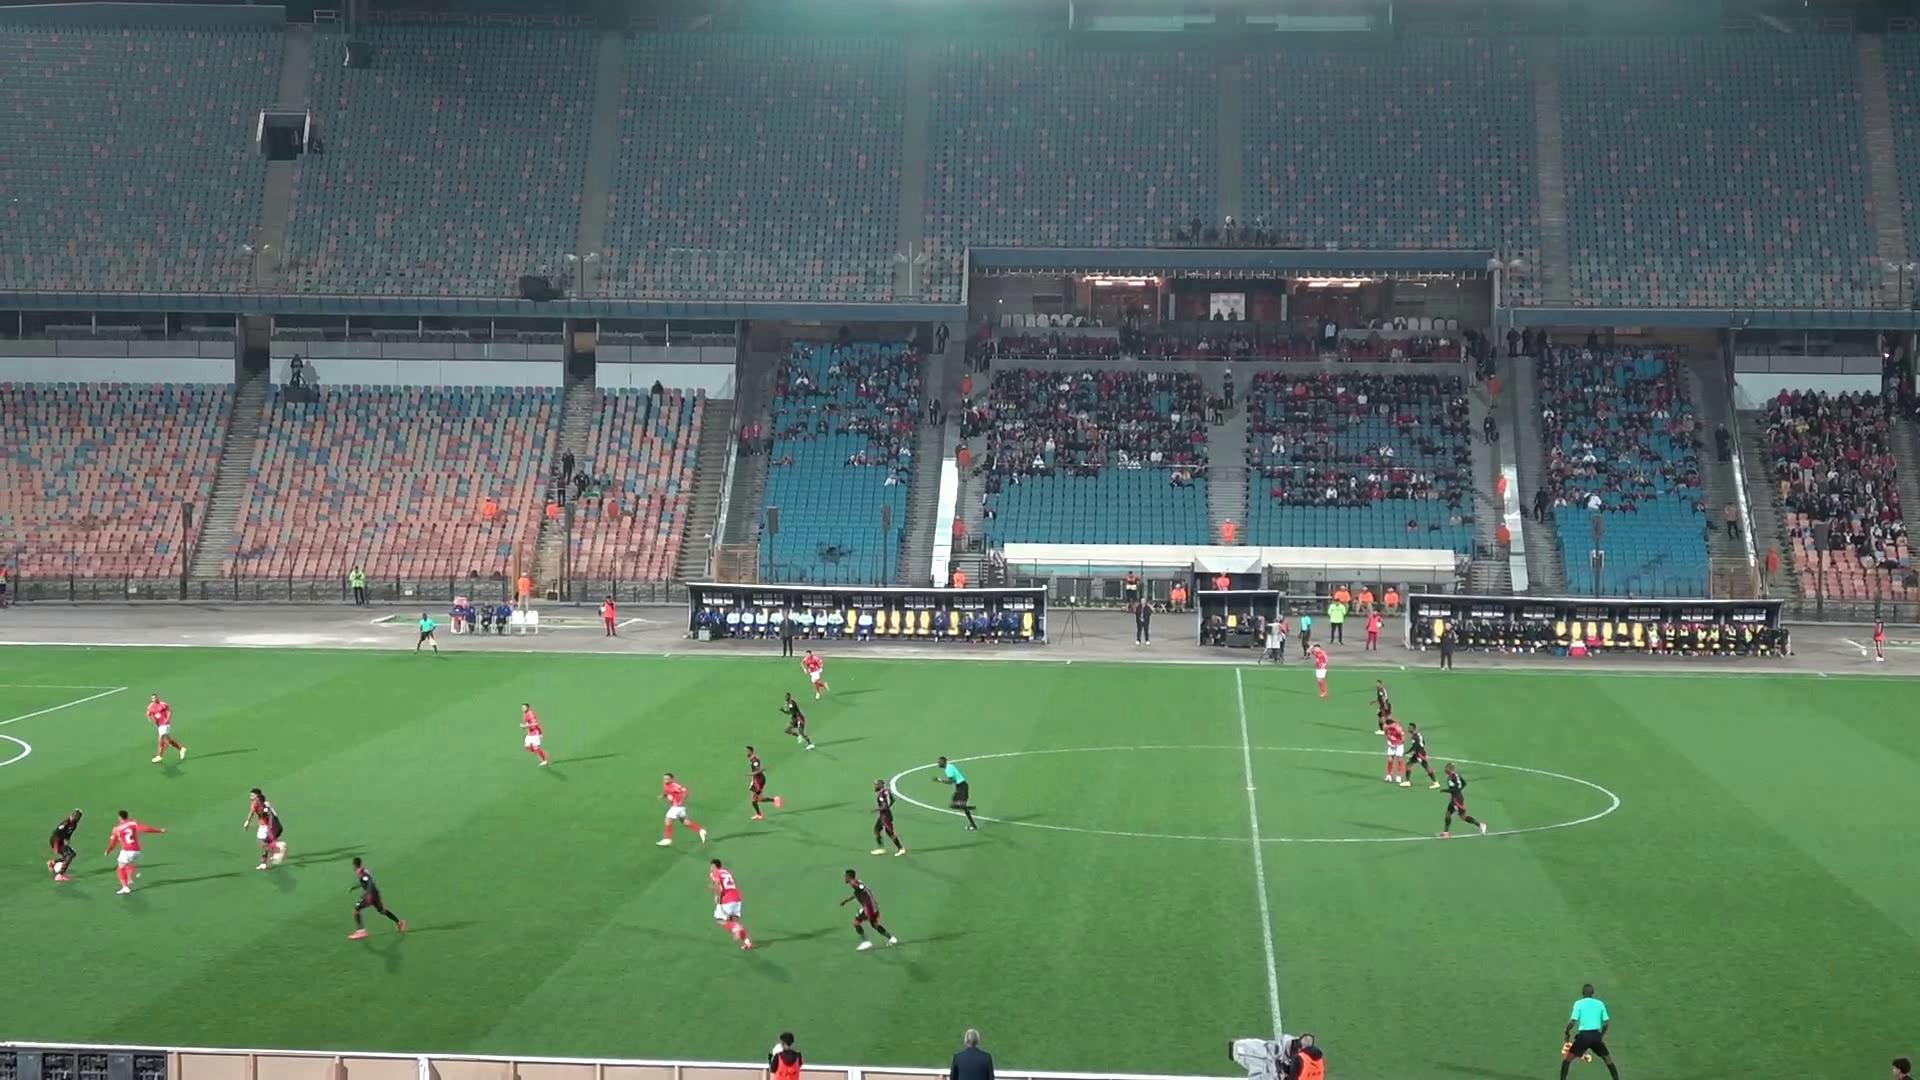Ball: (47, 855, 71, 880)
Refree: (1559, 985, 1619, 1079), (935, 756, 977, 829), (1374, 680, 1395, 732), (415, 613, 438, 651), (1298, 607, 1313, 655)
Team1: (104, 810, 164, 893), (709, 860, 753, 948), (657, 771, 705, 845), (872, 781, 909, 855), (145, 694, 185, 761), (1378, 717, 1404, 785), (522, 704, 549, 766), (800, 651, 828, 698), (1309, 644, 1329, 698)
Team2: (348, 856, 405, 939), (844, 870, 897, 944), (1439, 762, 1485, 836), (243, 789, 284, 869), (746, 746, 785, 820), (47, 808, 82, 881), (1403, 723, 1437, 786), (781, 692, 815, 749)
